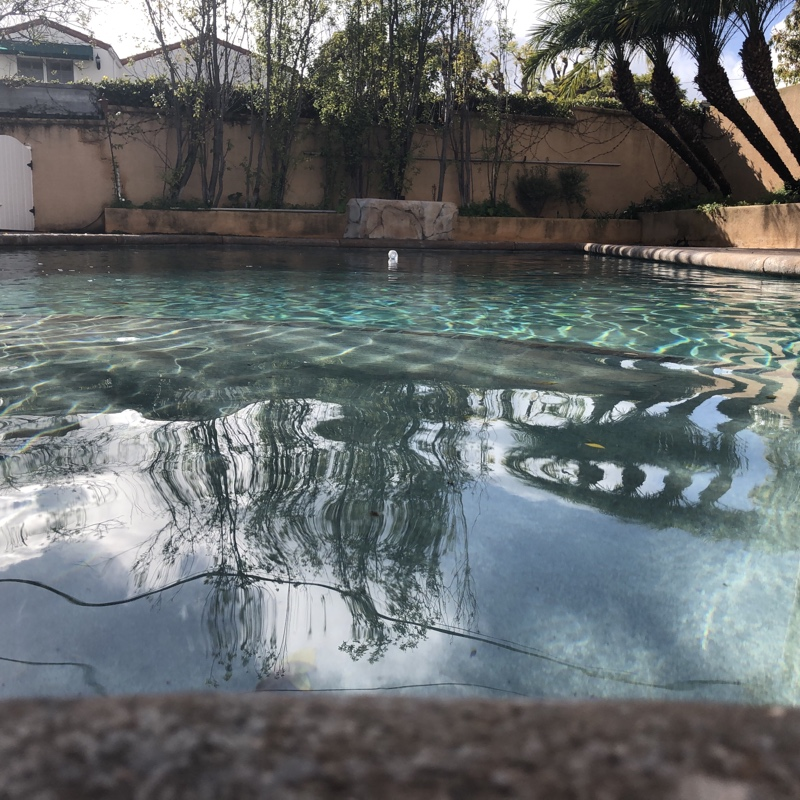Plastic Bottle: (385, 245, 398, 265)
